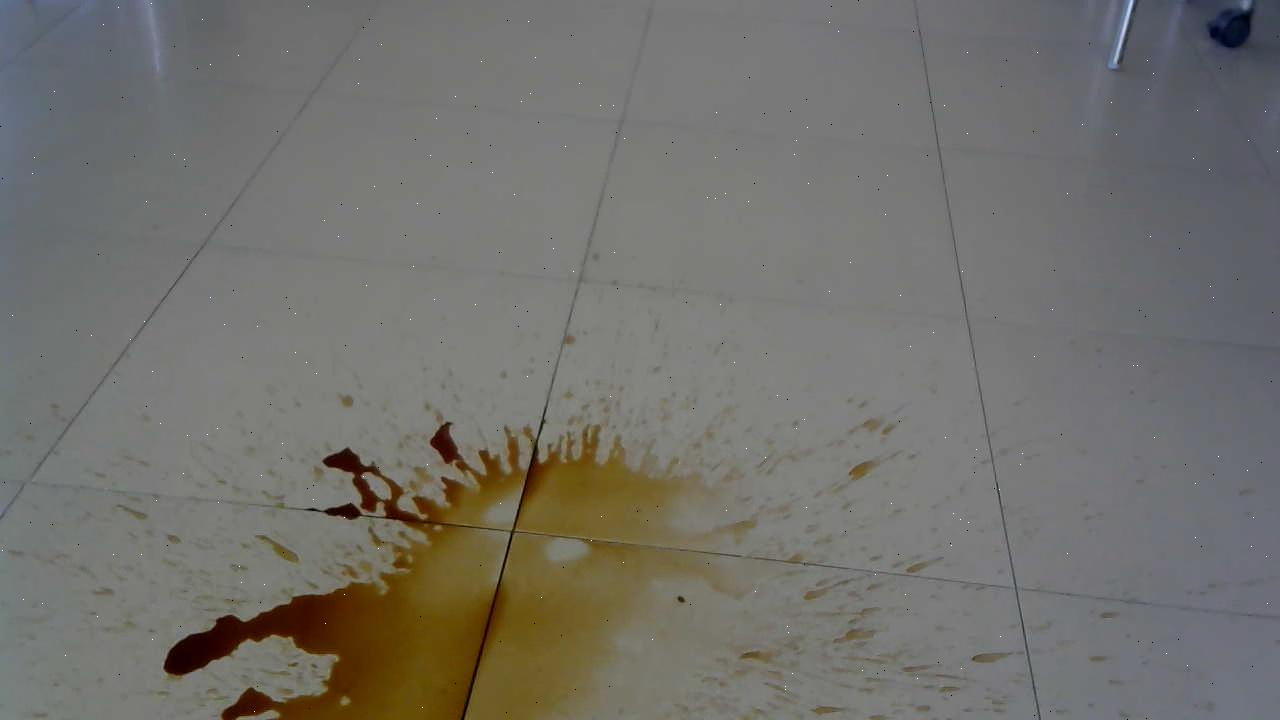dirty_floor: (149, 387, 986, 717)
